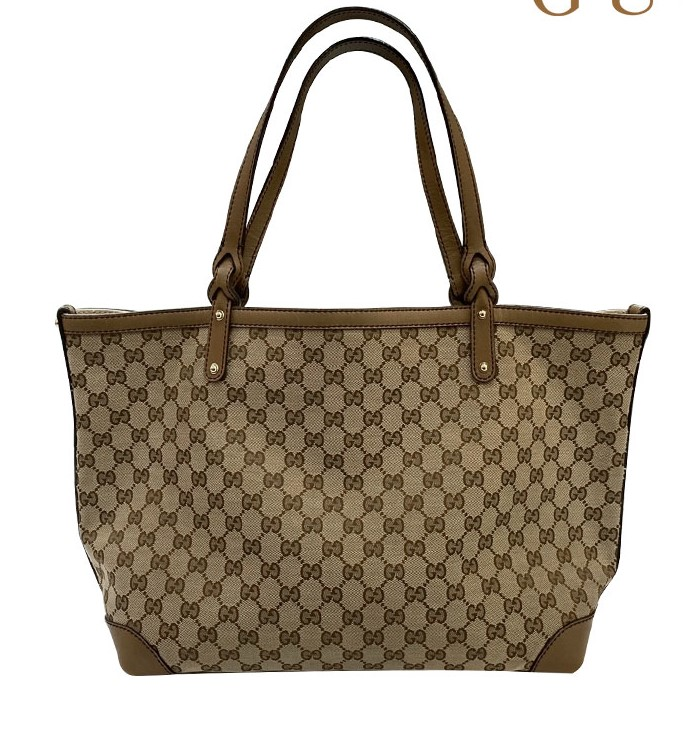Gucci: (30, 227, 679, 716), (106, 365, 606, 646)
